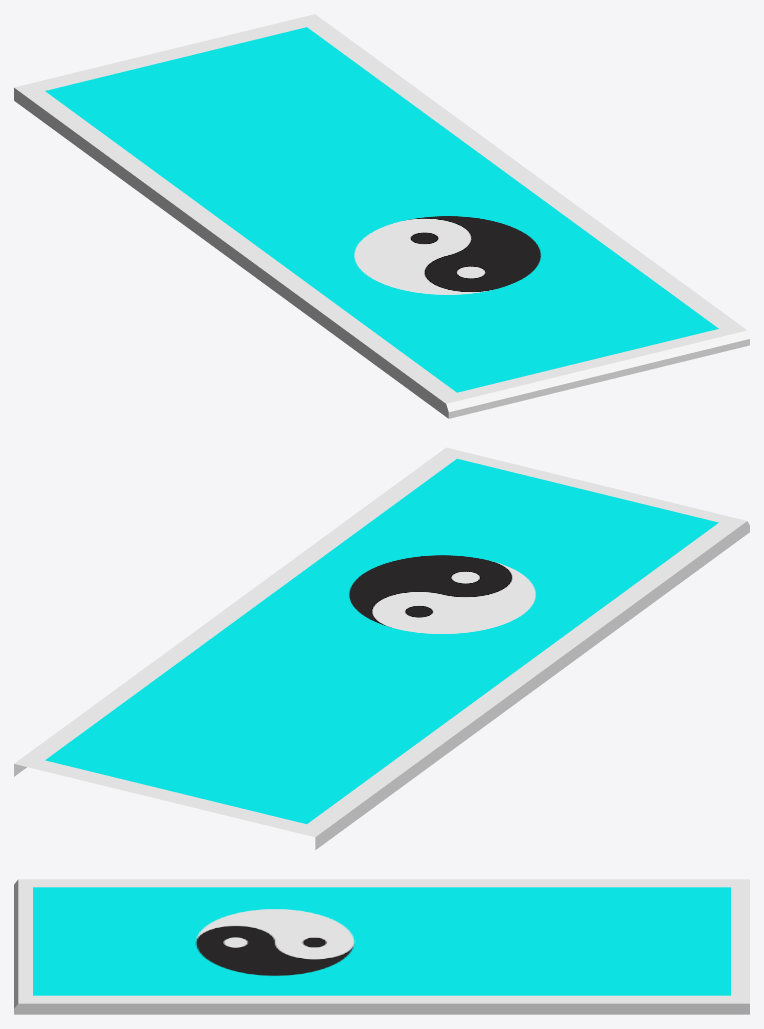
The model's file is StartRoad.fbx.
3 renders of one model, top to bottom at view 1: azimuth 30°, elevation 25°; view 2: azimuth 150°, elevation 25°; view 3: azimuth 270°, elevation 25°, orthographic. The views are drawn at different scales.
Parts seen in each view (by area): view 1: StartRoad; view 2: StartRoad; view 3: StartRoad.
Part boxes in pixels (<box>): StartRoad: <box>14,14,749,418</box>; StartRoad: <box>14,447,749,849</box>; StartRoad: <box>14,879,749,1014</box>.
Size of the model in its own units: 2 by 0.0833 by 5.
1 material, 1 textured.
